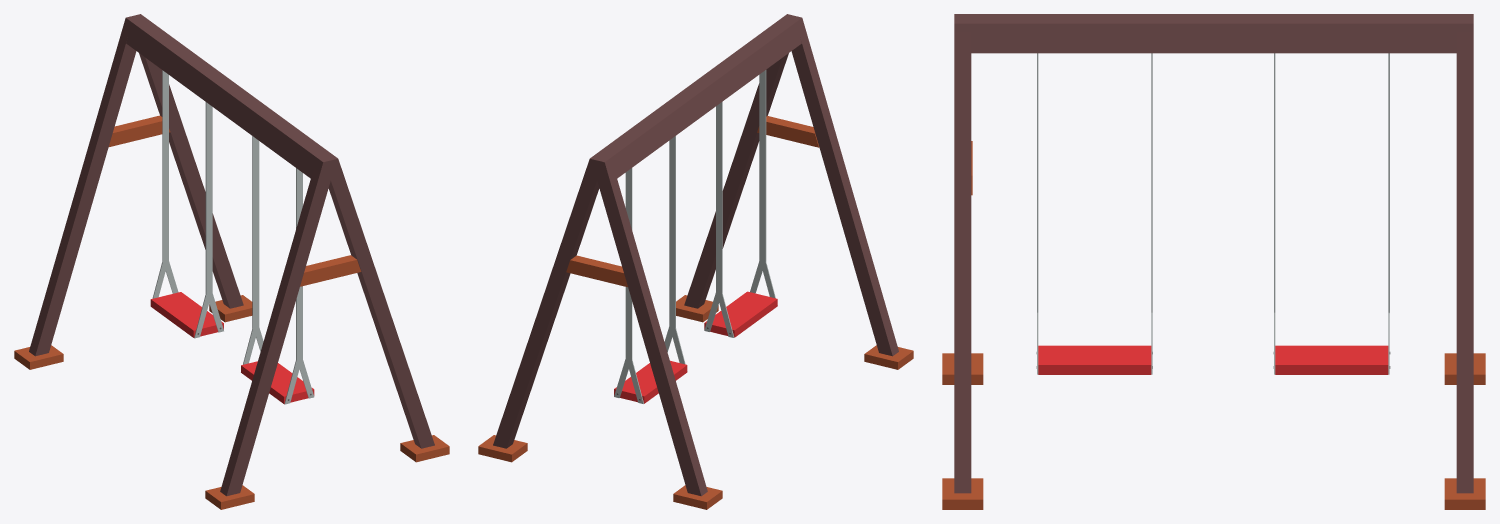
The model's file is D1_PLAYGROUND_3.fbx.
3 views of the same model, side by side, from view 1: azimuth 30°, elevation 25°; view 2: azimuth 150°, elevation 25°; view 3: azimuth 270°, elevation 25° (orthographic). The views are drawn at different scales.
Parts seen in each view (by area): view 1: D1_PLAYGROUND_3; view 2: D1_PLAYGROUND_3; view 3: D1_PLAYGROUND_3.
Part boxes in pixels (<box>): D1_PLAYGROUND_3: <box>14,14,449,509</box>; D1_PLAYGROUND_3: <box>478,14,913,509</box>; D1_PLAYGROUND_3: <box>942,14,1485,509</box>.
Bounding box in the file's own units: 229 × 305 × 359.
